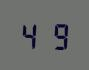four: (19, 19, 43, 49)
nine: (44, 19, 68, 50)
